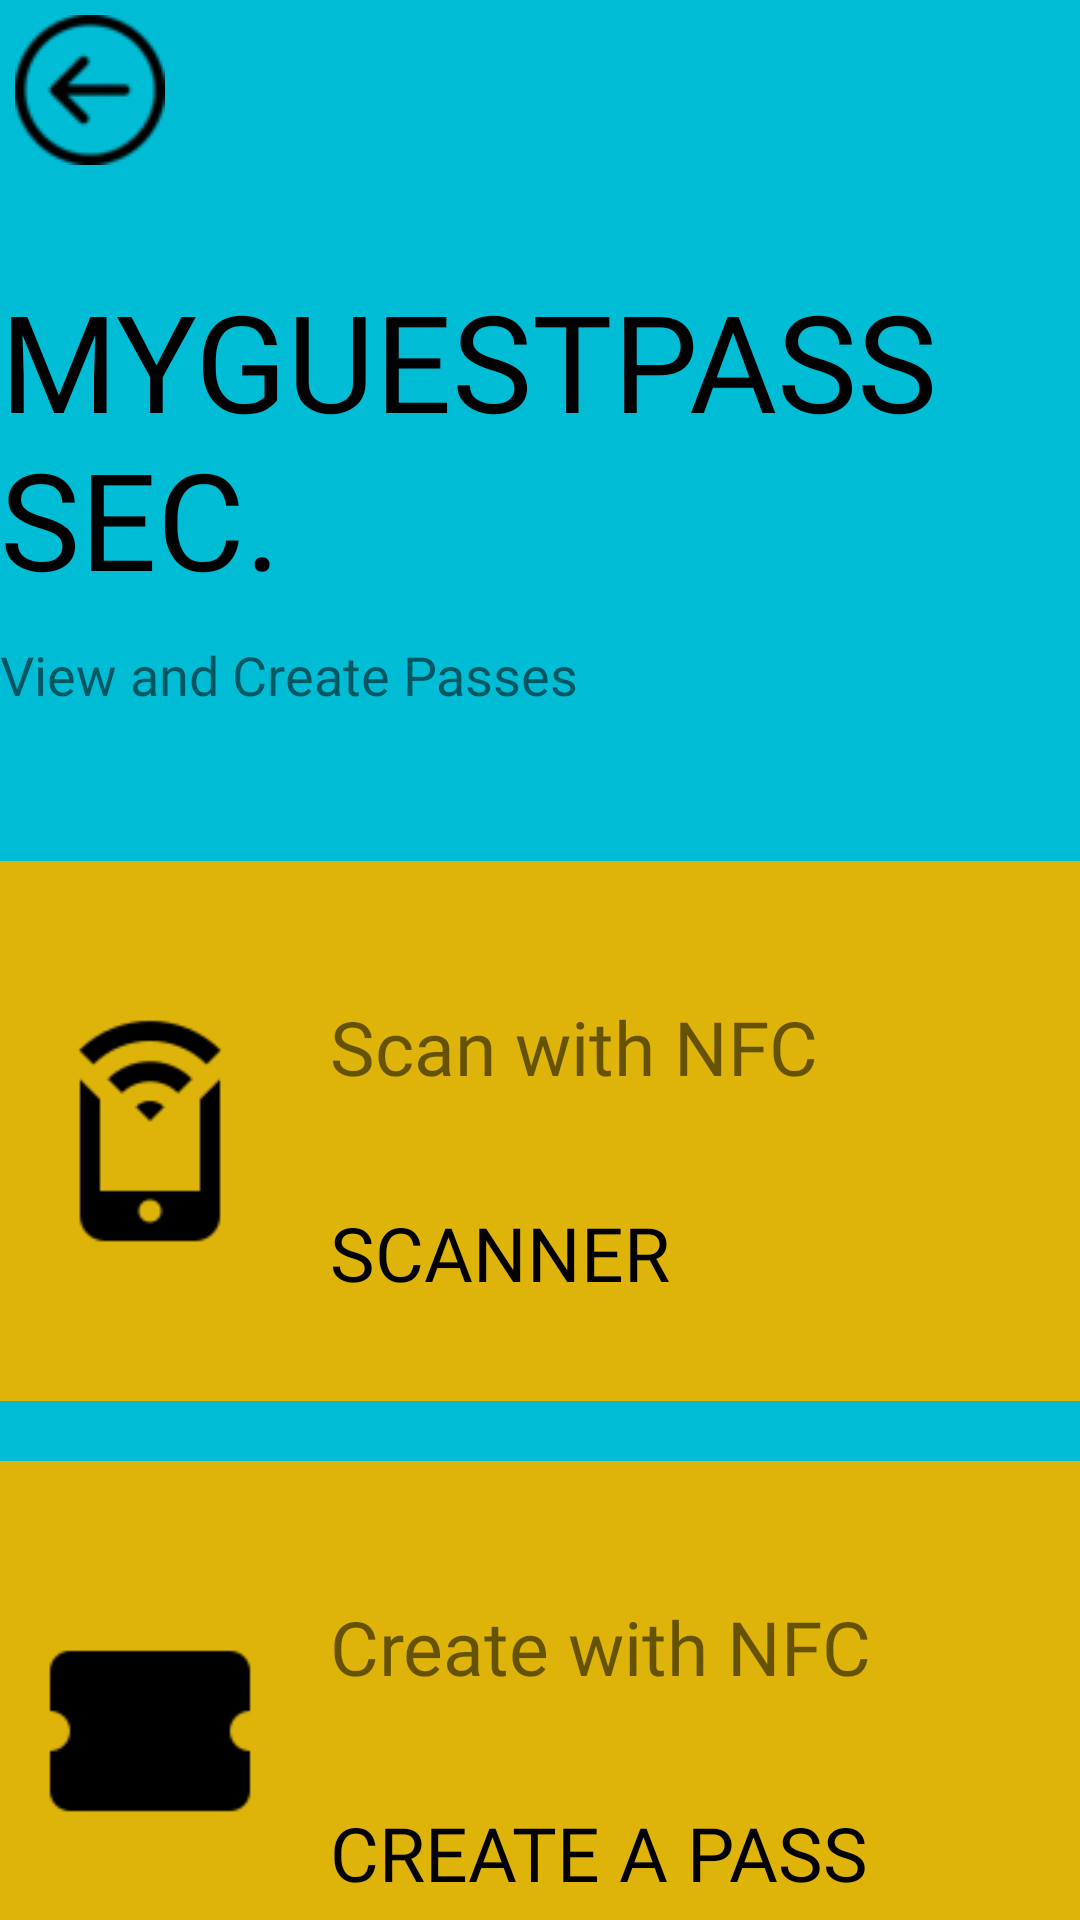

Named icons in this screenshot (1080px×1920px) and their bounding boxes, (x1, y1, x2, y2):
back: (15, 15, 165, 165)
ticket: (49, 1650, 251, 1812)
